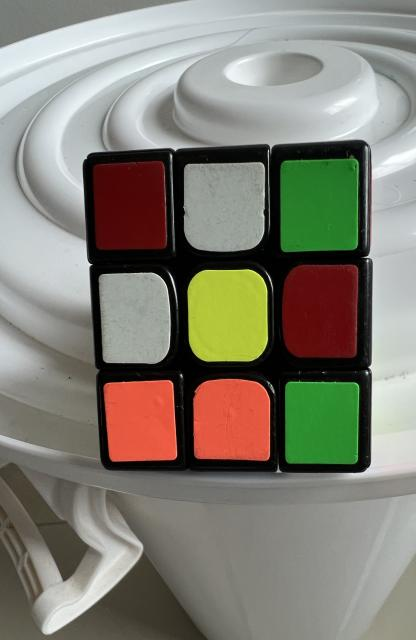Green: (281, 159, 359, 252), (285, 381, 360, 464)
Orange: (193, 379, 271, 461), (103, 380, 178, 461)
Red: (282, 265, 359, 358), (93, 161, 167, 250)
White: (183, 162, 265, 251), (99, 272, 171, 364)
Yellow: (187, 269, 269, 362)
